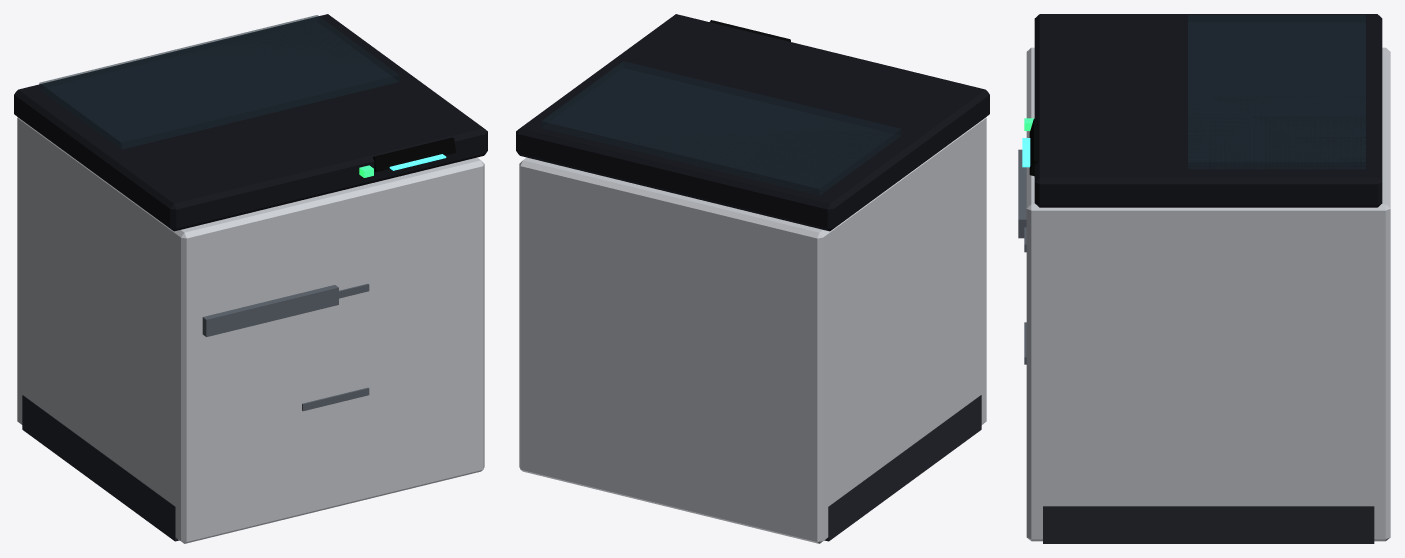
File: copier.glb
The picture shows the model from 3 angles, left to right: view 1: azimuth 30°, elevation 25°; view 2: azimuth 150°, elevation 25°; view 3: azimuth 270°, elevation 25°; orthographic projection. The views are drawn at different scales.
Parts seen in each view (by area): view 1: copier; view 2: copier; view 3: copier.
Boxes of the visible parts, left/top/right/bottom form: copier: left=14, top=14, right=487, bottom=543; copier: left=516, top=14, right=989, bottom=543; copier: left=1018, top=14, right=1390, bottom=543.
Size of the model in its own units: 0.96 by 1 by 0.9.
